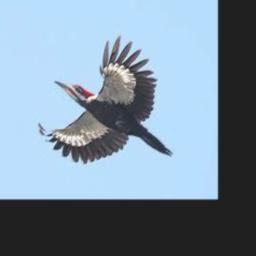Woodpecker: (38, 35, 173, 163)
